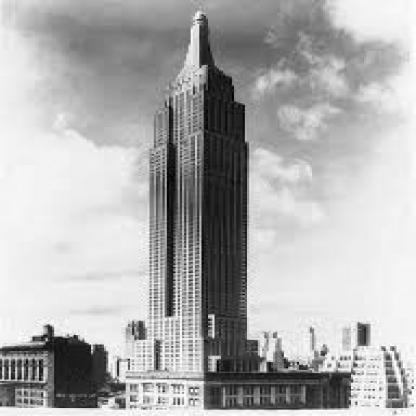Empire-State-building: (117, 0, 269, 407)
